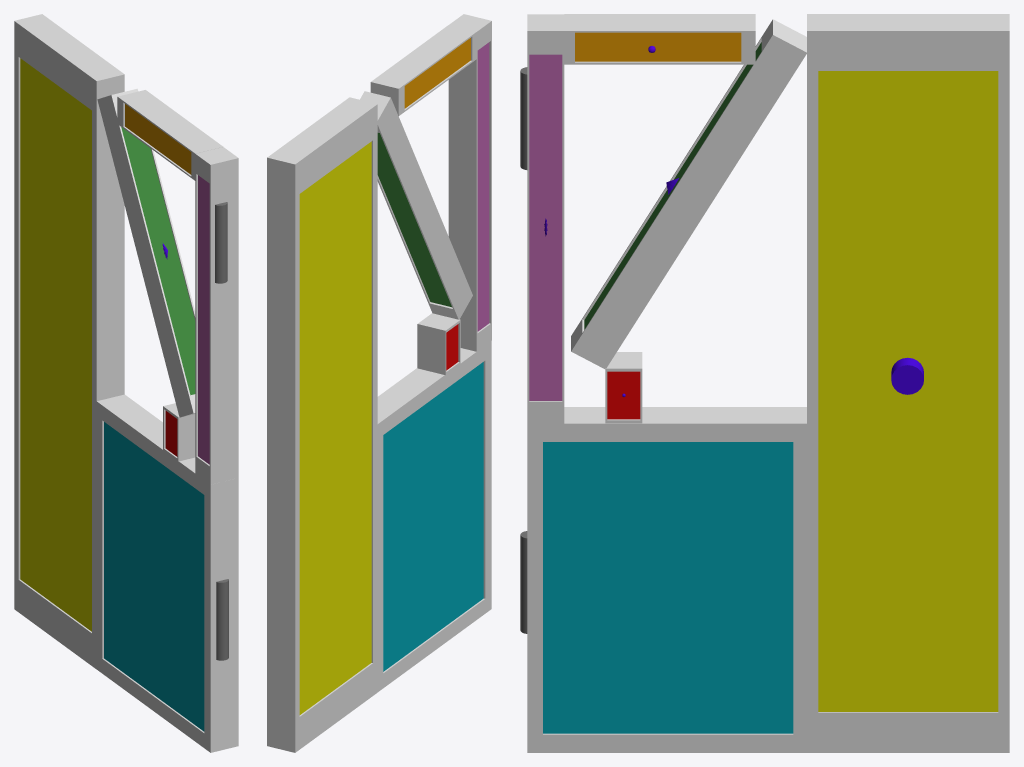
File: LH-door2.fbx
3 views of the same model, side by side, from view 1: azimuth 30°, elevation 25°; view 2: azimuth 150°, elevation 25°; view 3: azimuth 270°, elevation 25° (orthographic). The views are drawn at different scales.
Parts seen in each view (by area): view 1: polySurface2, polySurface11, polySurface3, polySurface10, polySurface7, polySurface4, polySurface5, polySurface8, polySurface15, polySurface16, polySurface12, pCylinder8 (+2 smaller); view 2: polySurface2, polySurface3, polySurface11, polySurface10, polySurface7, polySurface4, polySurface8, polySurface15, polySurface5, polySurface12, polySurface16, polySurface13; view 3: polySurface2, polySurface11, polySurface3, polySurface10, polySurface4, polySurface8, polySurface15, polySurface16, polySurface7, polySurface5, polySurface13, polySurface12 (+3 smaller).
Part boxes in pixels (left/top/right/bottom): polySurface2: left=20, top=58, right=91, bottom=631; polySurface11: left=104, top=422, right=204, bottom=731; polySurface3: left=14, top=14, right=124, bottom=668; polySurface10: left=96, top=394, right=238, bottom=752; polySurface7: left=195, top=147, right=238, bottom=484; polySurface4: left=97, top=88, right=195, bottom=417; polySurface5: left=121, top=127, right=195, bottom=395; polySurface8: left=198, top=175, right=209, bottom=464; polySurface15: left=117, top=90, right=223, bottom=180; polySurface16: left=125, top=104, right=191, bottom=174; polySurface12: left=163, top=403, right=195, bottom=461; pCylinder8: left=216, top=579, right=228, bottom=660; polySurface2: left=299, top=141, right=371, bottom=714; polySurface3: left=267, top=97, right=377, bottom=752; polySurface11: left=383, top=362, right=483, bottom=671; polySurface10: left=377, top=341, right=491, bottom=692; polySurface7: left=448, top=14, right=491, bottom=351; polySurface4: left=360, top=91, right=472, bottom=319; polySurface8: left=477, top=42, right=489, bottom=331; polySurface15: left=370, top=25, right=476, bottom=116; polySurface5: left=377, top=133, right=451, bottom=307; polySurface12: left=417, top=313, right=460, bottom=374; polySurface16: left=404, top=38, right=470, bottom=108; polySurface13: left=446, top=324, right=458, bottom=370; polySurface2: left=818, top=71, right=998, bottom=711; polySurface11: left=543, top=442, right=793, bottom=733; polySurface3: left=807, top=14, right=1009, bottom=752; polySurface10: left=527, top=407, right=808, bottom=752; polySurface4: left=571, top=19, right=806, bottom=368; polySurface8: left=529, top=54, right=562, bottom=400; polySurface15: left=564, top=14, right=755, bottom=64; polySurface16: left=575, top=32, right=741, bottom=61; polySurface7: left=527, top=14, right=564, bottom=423; polySurface5: left=584, top=42, right=761, bottom=329; polySurface13: left=607, top=371, right=640, bottom=419; polySurface12: left=605, top=352, right=642, bottom=423.
Bounding box in the file's own units: 0.7012 × 10 × 6.14.
